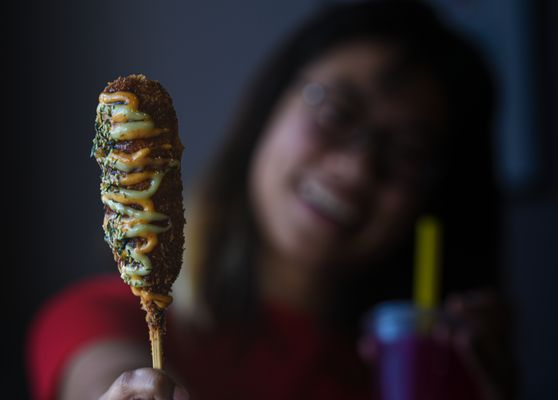sandwich: (90, 73, 188, 359)
